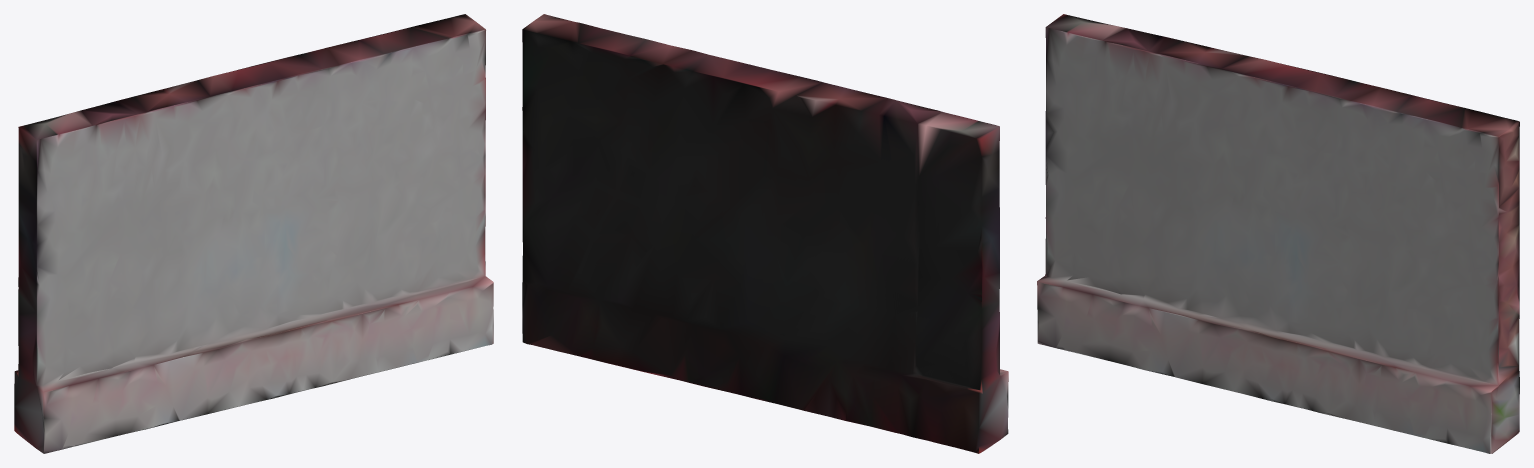
Rendered from box-skate-03.glb.
3 renders of one model, left to right at view 1: azimuth 30°, elevation 25°; view 2: azimuth 150°, elevation 25°; view 3: azimuth 330°, elevation 25°, orthographic.
Visible parts, largest first — view 1: box-skate-03; view 2: box-skate-03; view 3: box-skate-03.
Boxes of the visible parts, x1=… form: box-skate-03: x1=14, y1=14, x2=493, y2=453; box-skate-03: x1=522, y1=14, x2=1008, y2=453; box-skate-03: x1=1037, y1=14, x2=1519, y2=453.
Size of the model in its own units: 0.9989 by 0.6577 by 0.1129.
